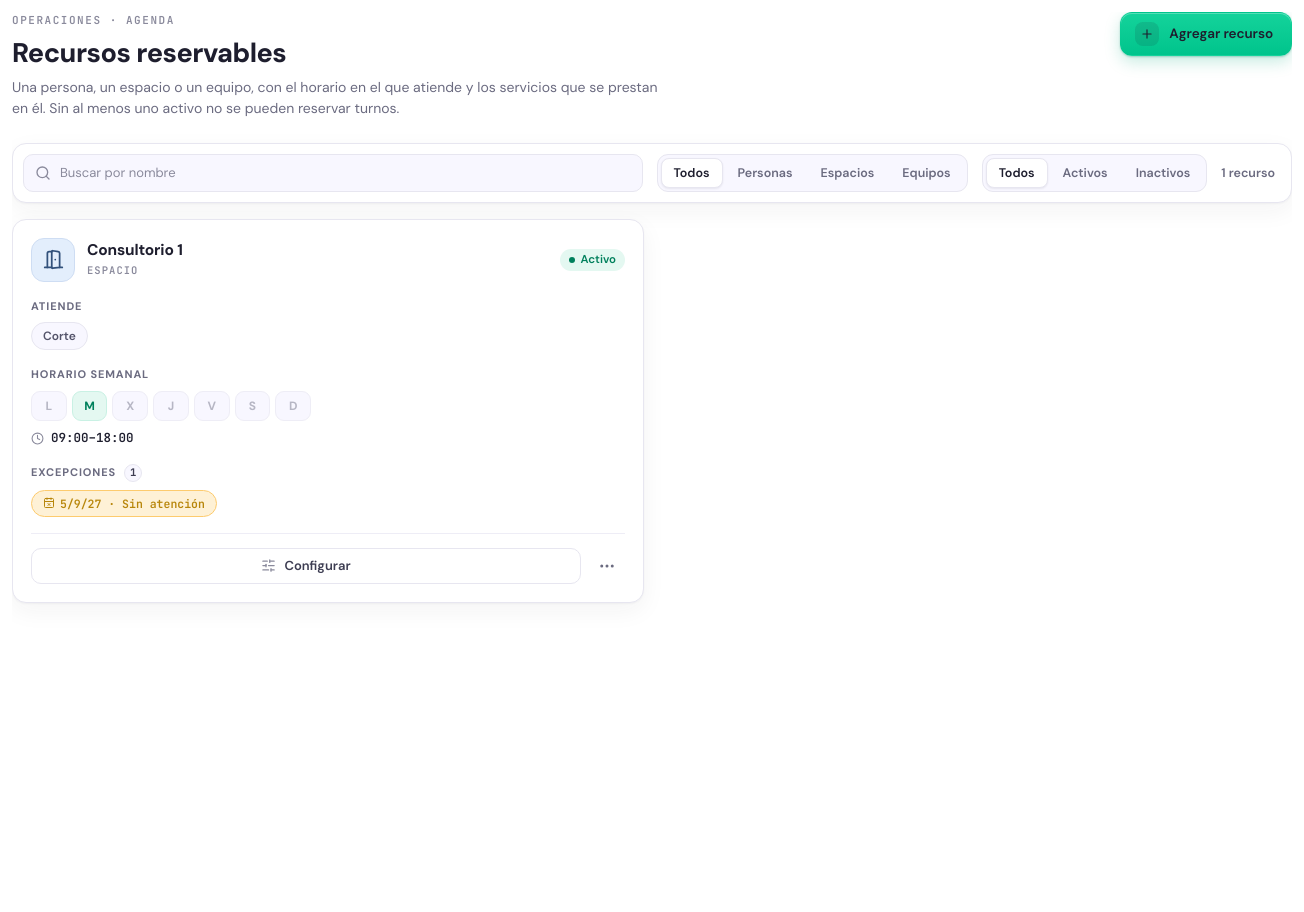
Test: PAN-AGE-03 › desactiva en vez de eliminar (RN-03)
Click the button named "Más acciones para Consultorio 1" at (607, 566), box [589,548,625,584]
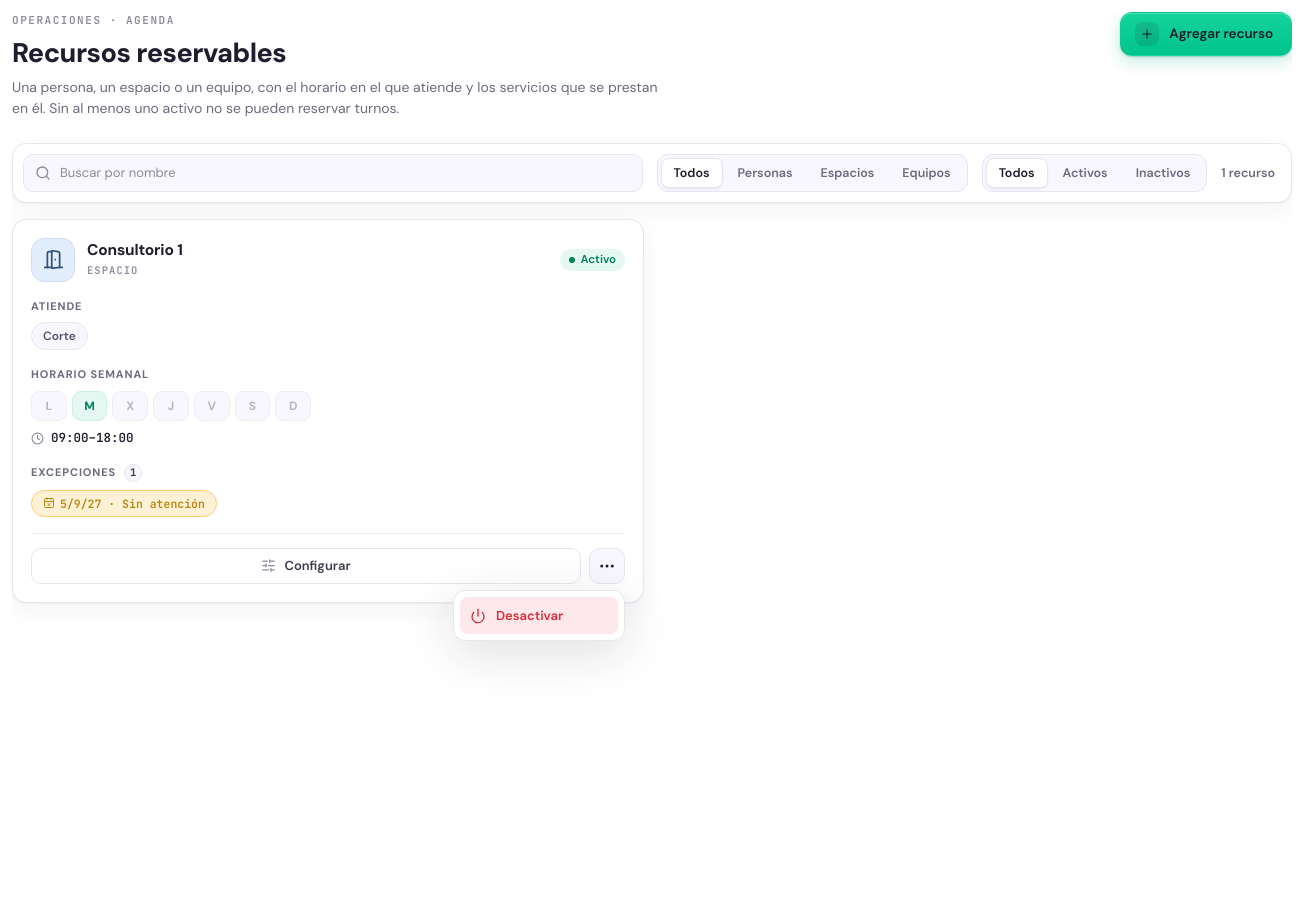
Click the menu item "Desactivar" at (539, 616), box [460,597,618,634]
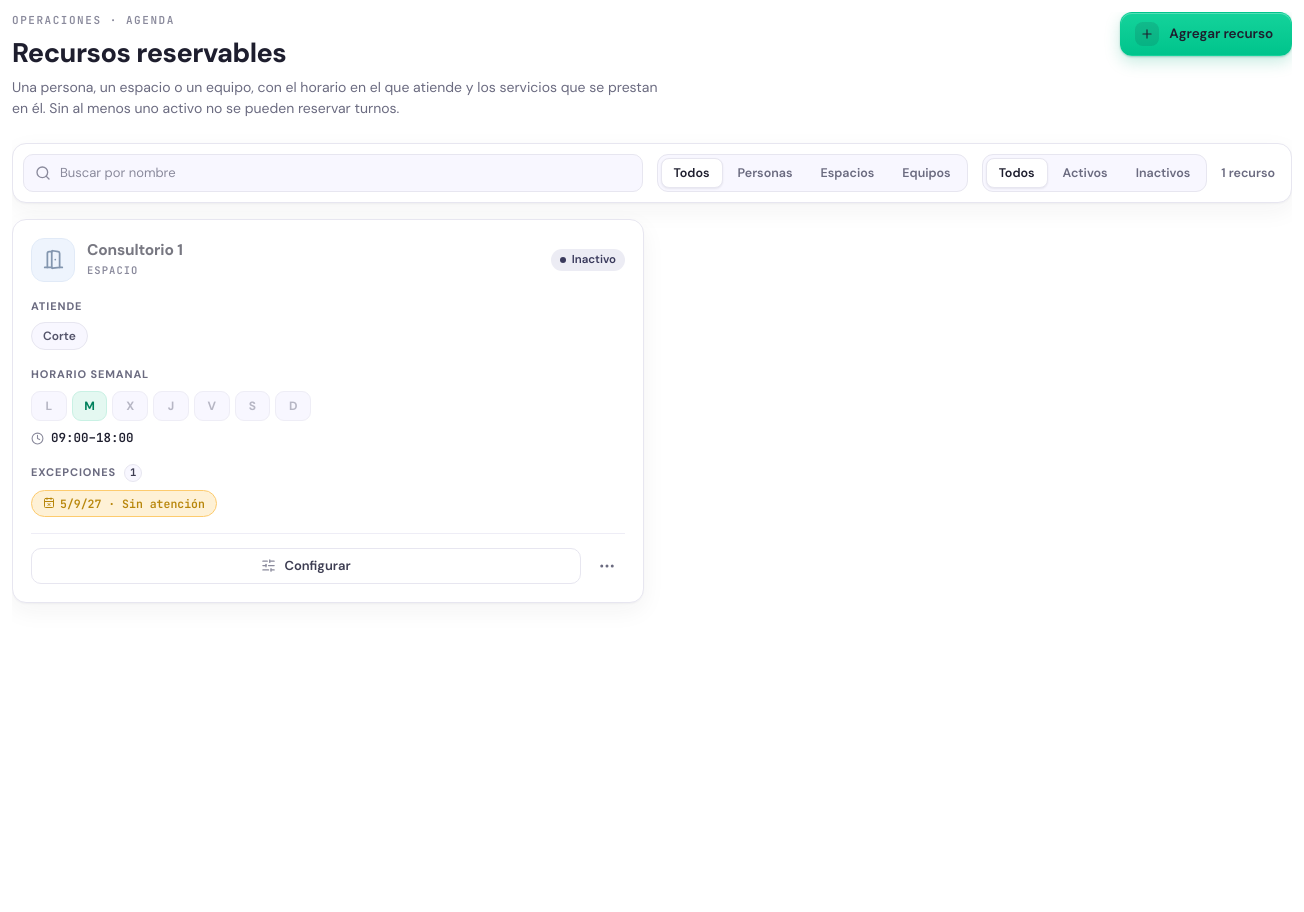
Check: the text "Inactivo" is shown, box [551,249,625,271]
